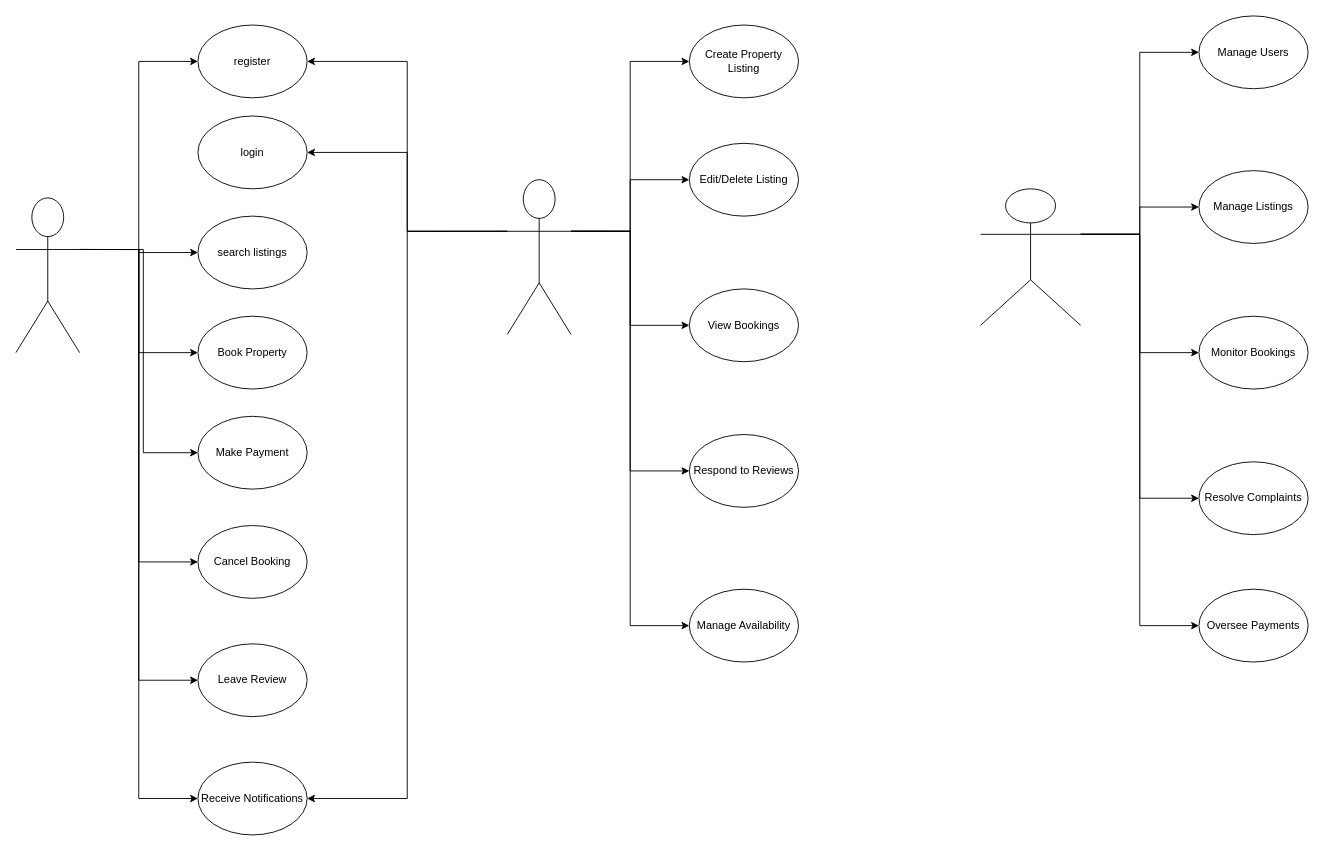
Image size: 1324x851. Some labels were removed from this diagram. Here are the shapes that lost their labels. From the top down, the box of each, then its label:
(15, 197, 80, 353): user
(506, 179, 571, 334): Host
(980, 188, 1081, 325): Admin
